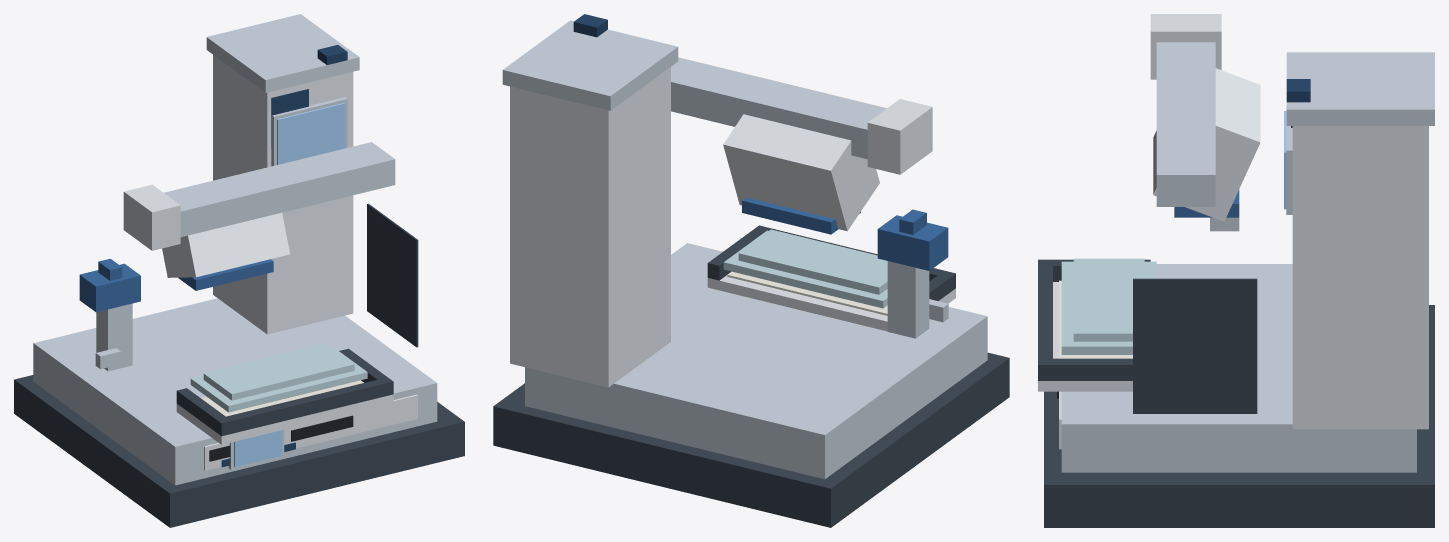
The model's file is exit_stamp.obj.
3 renders of one model, left to right at view 1: azimuth 30°, elevation 25°; view 2: azimuth 150°, elevation 25°; view 3: azimuth 270°, elevation 25°, orthographic. The views are drawn at different scales.
Parts seen in each view (by area): view 1: exit_stamp_e01, exit_stamp_e00, exit_stamp_e05, exit_stamp_e10, exit_stamp_e06, exit_stamp_e27, exit_stamp_e12, exit_stamp_e21, exit_stamp_e09, exit_stamp_e18, exit_stamp_e11, exit_stamp_e02 (+12 smaller); view 2: exit_stamp_e01, exit_stamp_e05, exit_stamp_e00, exit_stamp_e12, exit_stamp_e10, exit_stamp_e06, exit_stamp_e21, exit_stamp_e11, exit_stamp_e15, exit_stamp_e23, exit_stamp_e25, exit_stamp_e20 (+5 smaller); view 3: exit_stamp_e05, exit_stamp_e01, exit_stamp_e00, exit_stamp_e27, exit_stamp_e06, exit_stamp_e10, exit_stamp_e12, exit_stamp_e21, exit_stamp_e11, exit_stamp_e20, exit_stamp_e17, exit_stamp_e18 (+5 smaller).
Boxes of the visible parts, <box> form: exit_stamp_e01: <box>33,298,437,485</box>; exit_stamp_e00: <box>14,375,464,527</box>; exit_stamp_e05: <box>213,55,353,334</box>; exit_stamp_e10: <box>164,142,395,237</box>; exit_stamp_e06: <box>206,14,359,92</box>; exit_stamp_e27: <box>367,203,418,347</box>; exit_stamp_e12: <box>162,212,289,277</box>; exit_stamp_e21: <box>203,343,354,400</box>; exit_stamp_e09: <box>277,102,345,164</box>; exit_stamp_e18: <box>215,377,393,435</box>; exit_stamp_e11: <box>123,184,180,250</box>; exit_stamp_e02: <box>204,394,417,470</box>; exit_stamp_e01: <box>525,243,987,479</box>; exit_stamp_e05: <box>510,67,670,387</box>; exit_stamp_e00: <box>493,352,1009,527</box>; exit_stamp_e12: <box>723,114,879,231</box>; exit_stamp_e10: <box>671,57,886,159</box>; exit_stamp_e06: <box>502,20,678,110</box>; exit_stamp_e21: <box>738,229,887,294</box>; exit_stamp_e11: <box>867,99,932,174</box>; exit_stamp_e15: <box>707,275,955,331</box>; exit_stamp_e23: <box>887,261,929,338</box>; exit_stamp_e25: <box>877,215,948,270</box>; exit_stamp_e20: <box>723,230,887,308</box>; exit_stamp_e05: <box>1292,126,1428,429</box>; exit_stamp_e01: <box>1061,264,1416,472</box>; exit_stamp_e00: <box>1044,305,1434,527</box>; exit_stamp_e27: <box>1133,278,1257,413</box>; exit_stamp_e06: <box>1286,52,1434,125</box>; exit_stamp_e10: <box>1156,42,1215,206</box>; exit_stamp_e12: <box>1153,68,1260,221</box>; exit_stamp_e21: <box>1073,258,1144,341</box>; exit_stamp_e11: <box>1150,14,1221,79</box>; exit_stamp_e20: <box>1061,261,1156,354</box>; exit_stamp_e17: <box>1038,358,1132,380</box>; exit_stamp_e18: <box>1038,259,1052,380</box>.
Size of the model in its own units: 0.9312 by 0.9875 by 0.8375.
